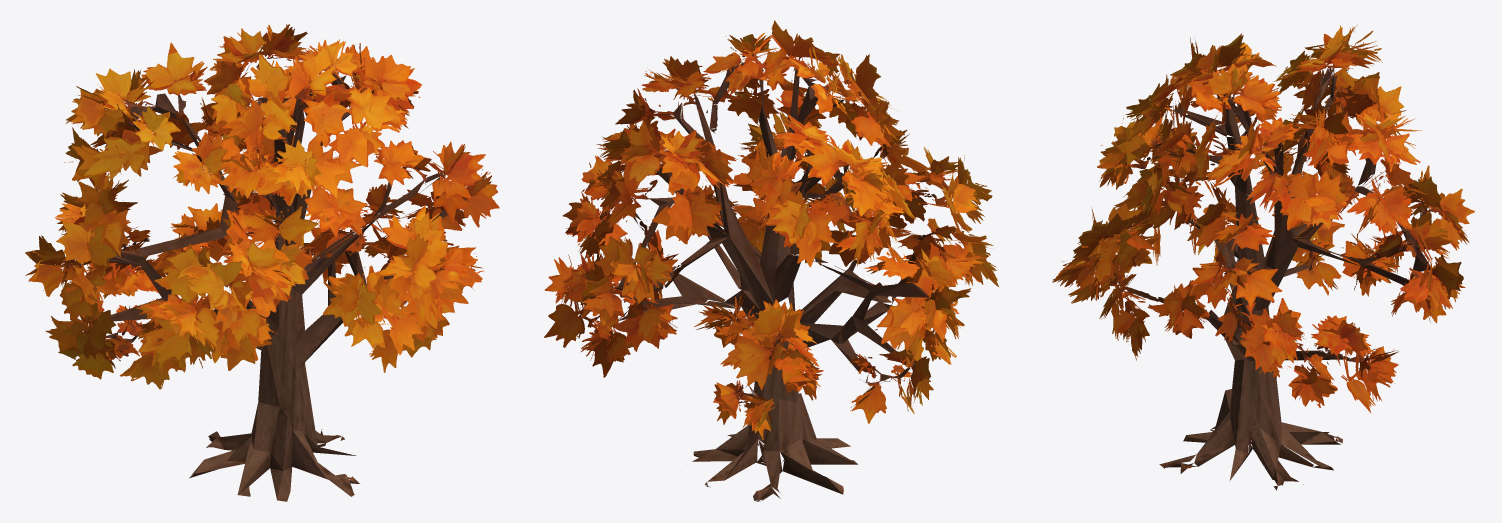
Rendered from turuncu_agac_lod1.glb.
3 renders of one model, left to right at view 1: azimuth 30°, elevation 25°; view 2: azimuth 150°, elevation 25°; view 3: azimuth 270°, elevation 25°, orthographic. The views are drawn at different scales.
Parts seen in each view (by area): view 1: turuncu_agac_lod1; view 2: turuncu_agac_lod1; view 3: turuncu_agac_lod1.
Part boxes in pixels (x1=…): turuncu_agac_lod1: x1=25, y1=24, x2=499, y2=501; turuncu_agac_lod1: x1=544, y1=20, x2=998, y2=501; turuncu_agac_lod1: x1=1052, y1=24, x2=1474, y2=490.
Bounding box in the file's own units: 5.13 × 4.88 × 4.67.
2 materials, 2 textured.
